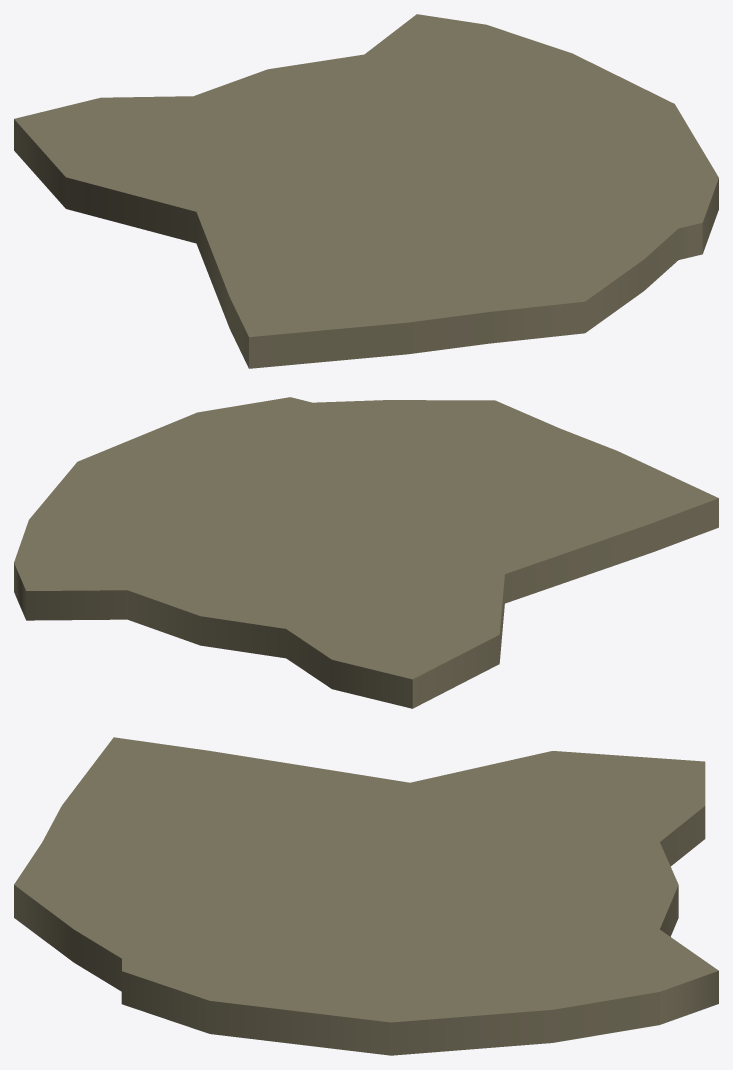
Rendered from stepStone2.fbx.
3 views of the same model, one above another, from view 1: azimuth 30°, elevation 25°; view 2: azimuth 150°, elevation 25°; view 3: azimuth 270°, elevation 25° (orthographic). The views are drawn at different scales.
Visible parts, largest first — view 1: Step1; view 2: Step1; view 3: Step1.
Part boxes in pixels (x1,y1,x2,y2): Step1: (14, 14, 718, 368); Step1: (14, 397, 718, 708); Step1: (14, 737, 718, 1055).
Size of the model in its own units: 1.73 by 0.094 by 1.81.
